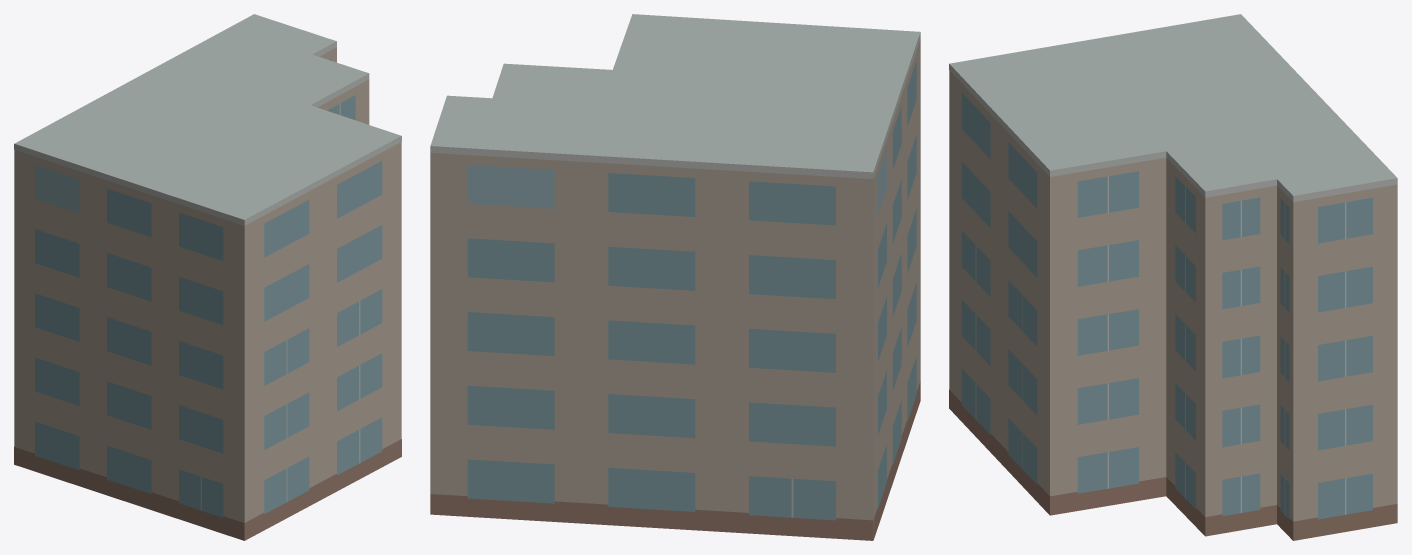
The model's file is survey-upis-32949073.glb.
3 renders of one model, left to right at view 1: azimuth 30°, elevation 25°; view 2: azimuth 150°, elevation 25°; view 3: azimuth 270°, elevation 25°, orthographic. The views are drawn at different scales.
Parts seen in each view (by area): view 1: survey-upis-32949073.tmp; view 2: survey-upis-32949073.tmp; view 3: survey-upis-32949073.tmp.
Boxes of the visible parts, left/top/right/bottom form: survey-upis-32949073.tmp: left=14, top=14, right=401, bottom=540; survey-upis-32949073.tmp: left=430, top=14, right=920, bottom=540; survey-upis-32949073.tmp: left=949, top=14, right=1397, bottom=540.
Size of the model in its own units: 15.06 by 13.3 by 15.68.
